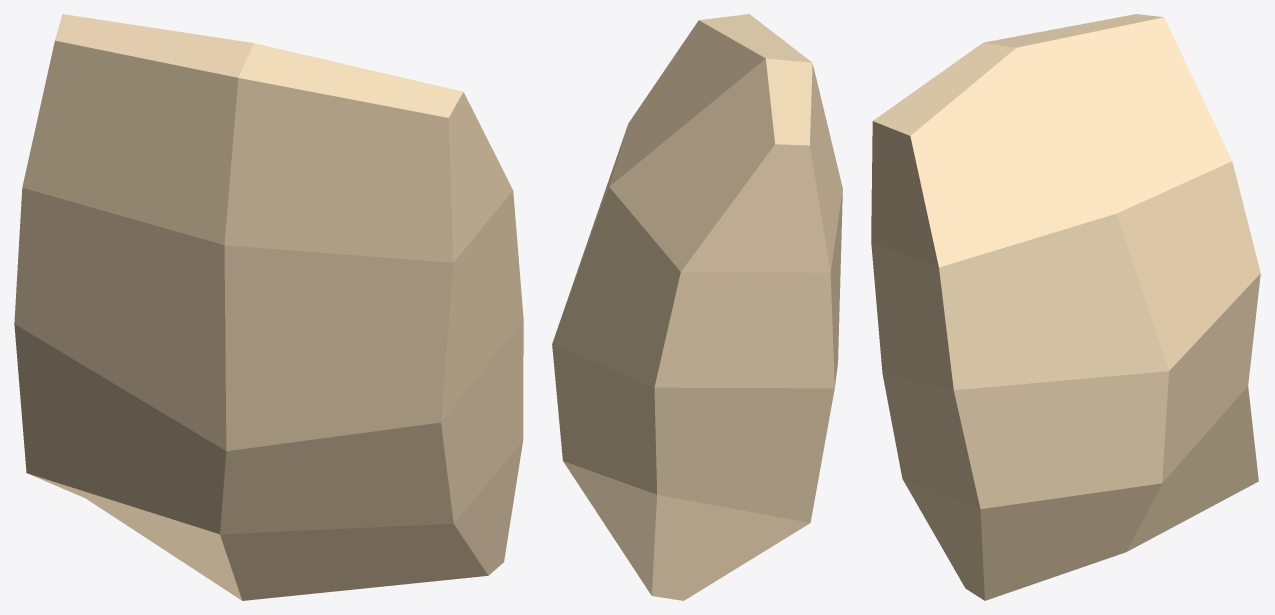
3 views of the same model, side by side, from view 1: azimuth 30°, elevation 25°; view 2: azimuth 150°, elevation 25°; view 3: azimuth 270°, elevation 25° (orthographic). The views are drawn at different scales.
Parts seen in each view (by area): view 1: group181920446; view 2: group181920446; view 3: group181920446.
Boxes of the visible parts, x1,y1,x2,y2 form: group181920446: (14,14,523,600); group181920446: (552,14,842,600); group181920446: (871,14,1260,600).
Size of the model in its own units: 64.64 by 86.45 by 65.06.
